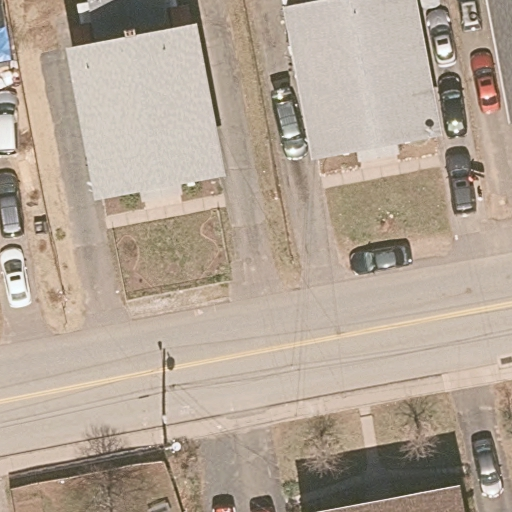DT: (159, 415, 181, 456)
